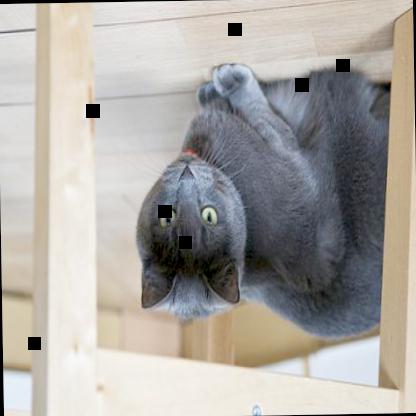cat: (132, 60, 396, 342)
